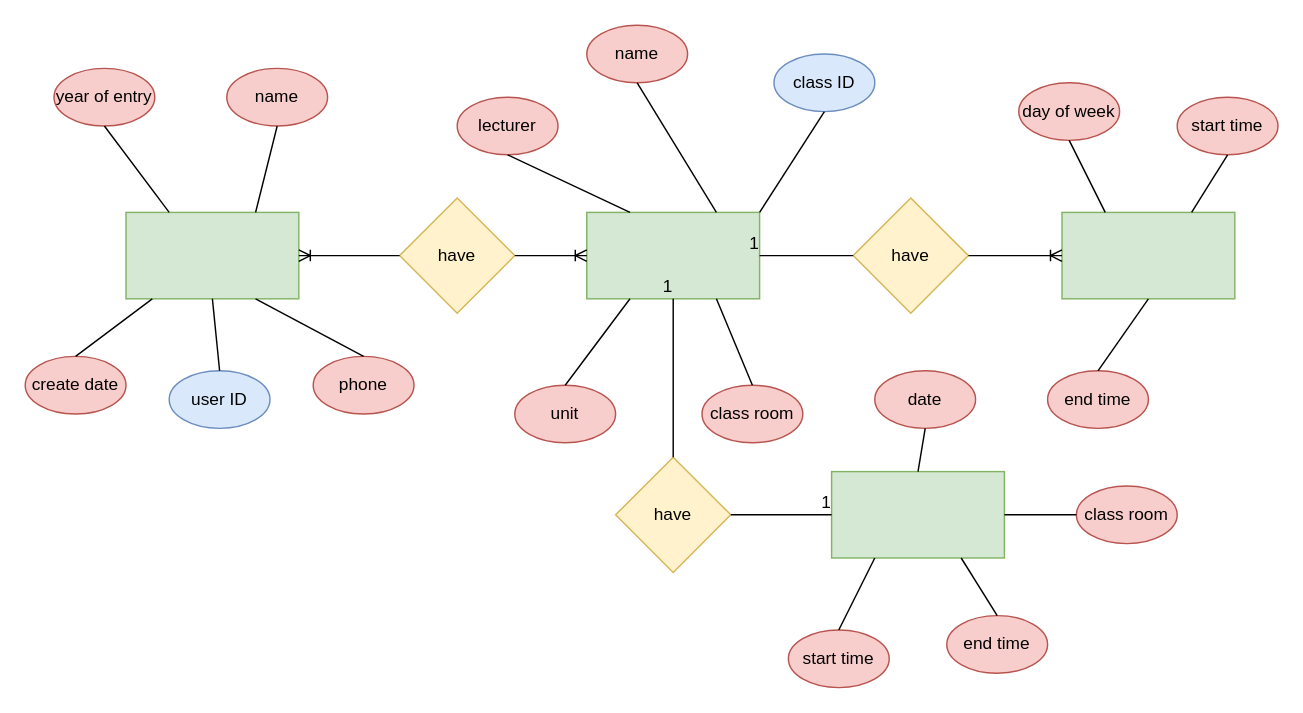
Image size: 1303x713. Some labels were removed from this diagram. Each missing label, with the centre of its shape:
Course: point 672,255
Exam: point 917,514
Student: point 212,255
Time: point 1148,255
